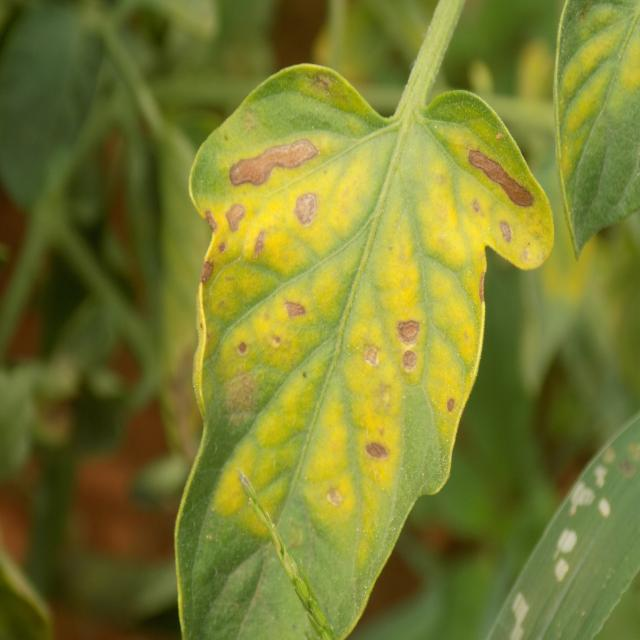tomato_early blight: (171, 72, 551, 640)
